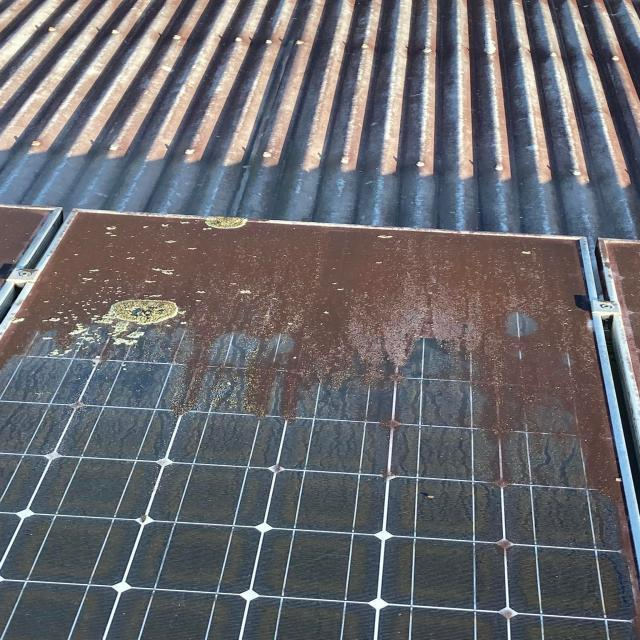Dusty: (8, 216, 631, 574)
